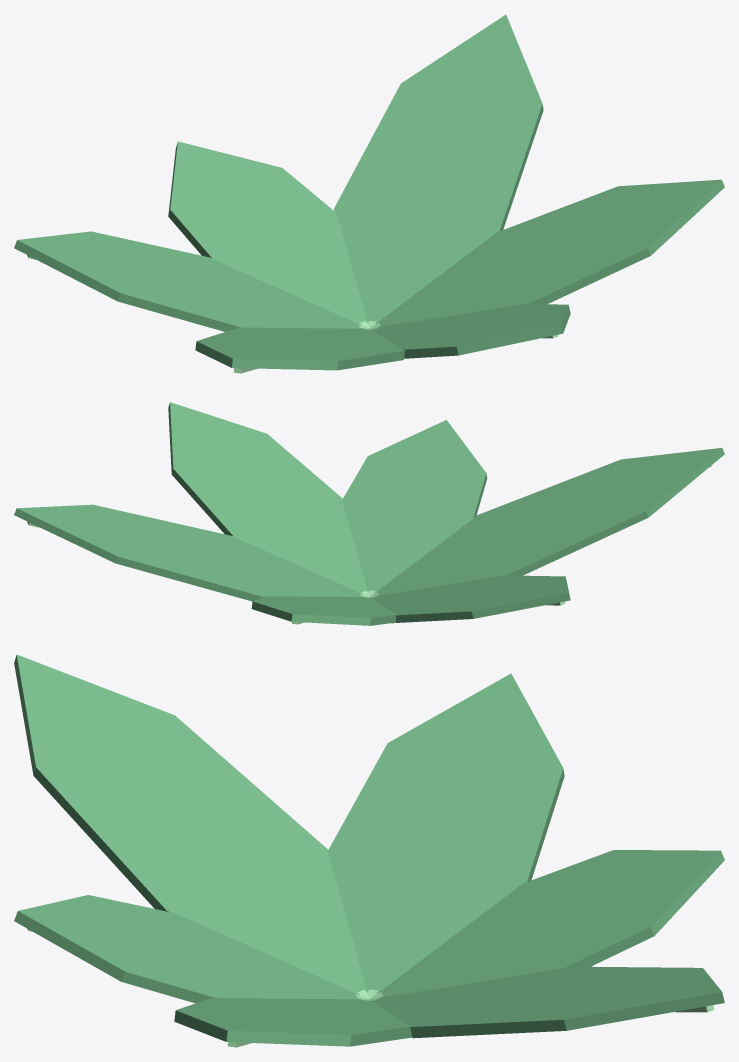
Rendered from v_ab_leaves.glb.
3 views of the same model, one above another, from view 1: azimuth 30°, elevation 25°; view 2: azimuth 150°, elevation 25°; view 3: azimuth 270°, elevation 25° (orthographic). The views are drawn at different scales.
Visible parts, largest first — view 1: Leaves; view 2: Leaves; view 3: Leaves.
Boxes of the visible parts, x1,y1,x2,y2 form: Leaves: [14, 14, 724, 373]; Leaves: [14, 402, 724, 625]; Leaves: [14, 654, 724, 1047].
Bounding box in the file's own units: 1.1 × 0.2678 × 0.9206.
